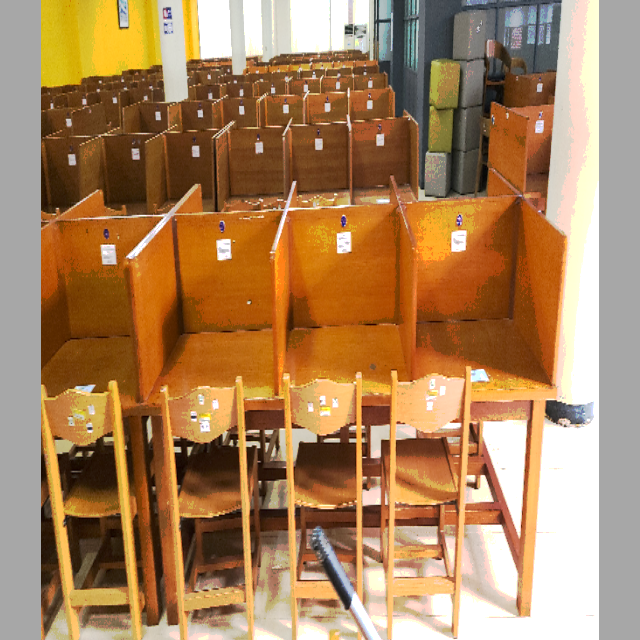empty: (125, 239, 276, 504), (420, 229, 566, 491), (280, 233, 414, 492)
